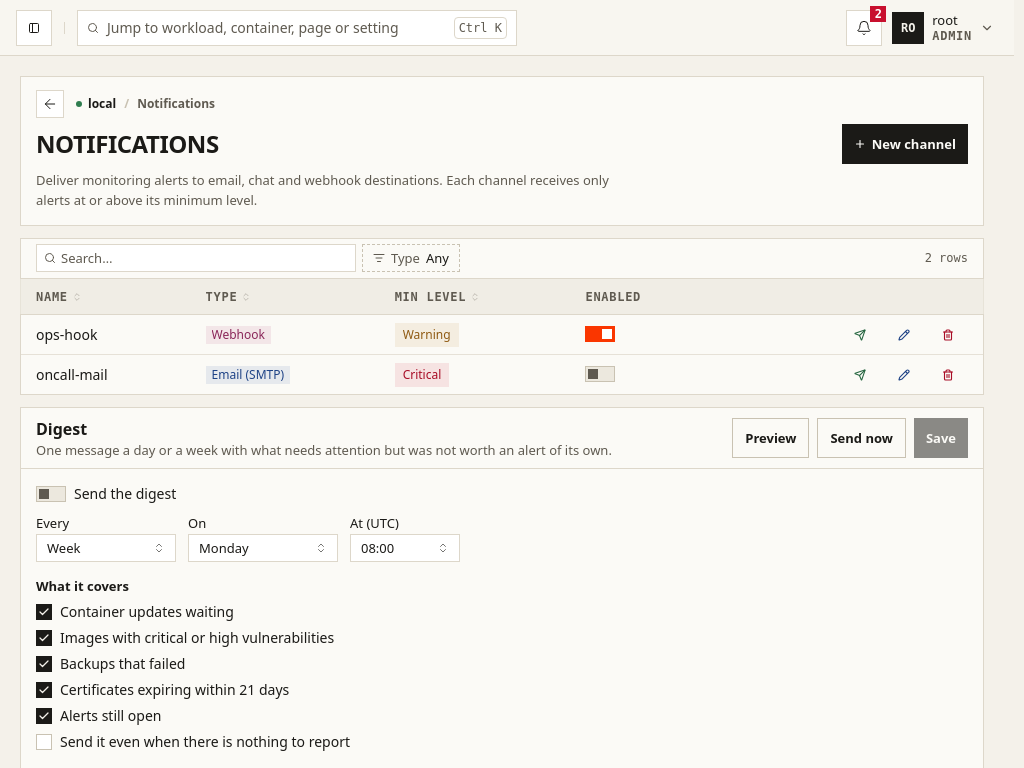
Test case: digest card › previews the text and sends now
Click the button "Preview".
click(771, 438)  # box [732,418,810,458]
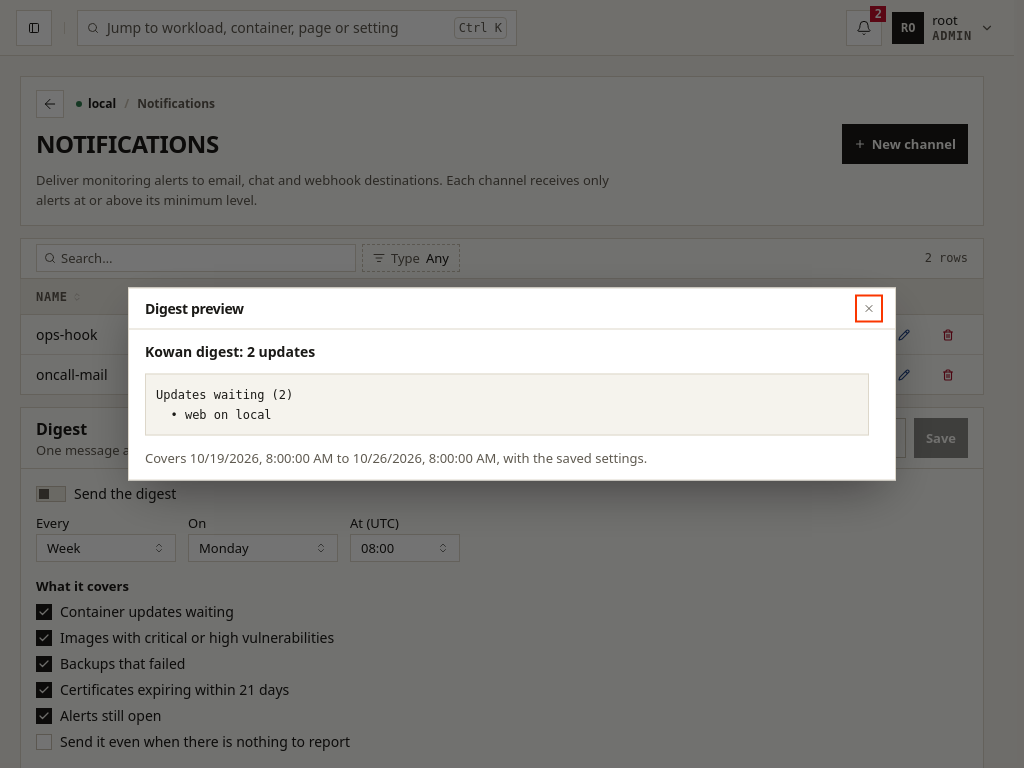
expect the text "Kowan digest: 2 updates" is shown: met, box [145,342,315,360]
expect the text "Updates waiting (2) • web on local" is shown: met, box [156,388,293,422]
Press Escape
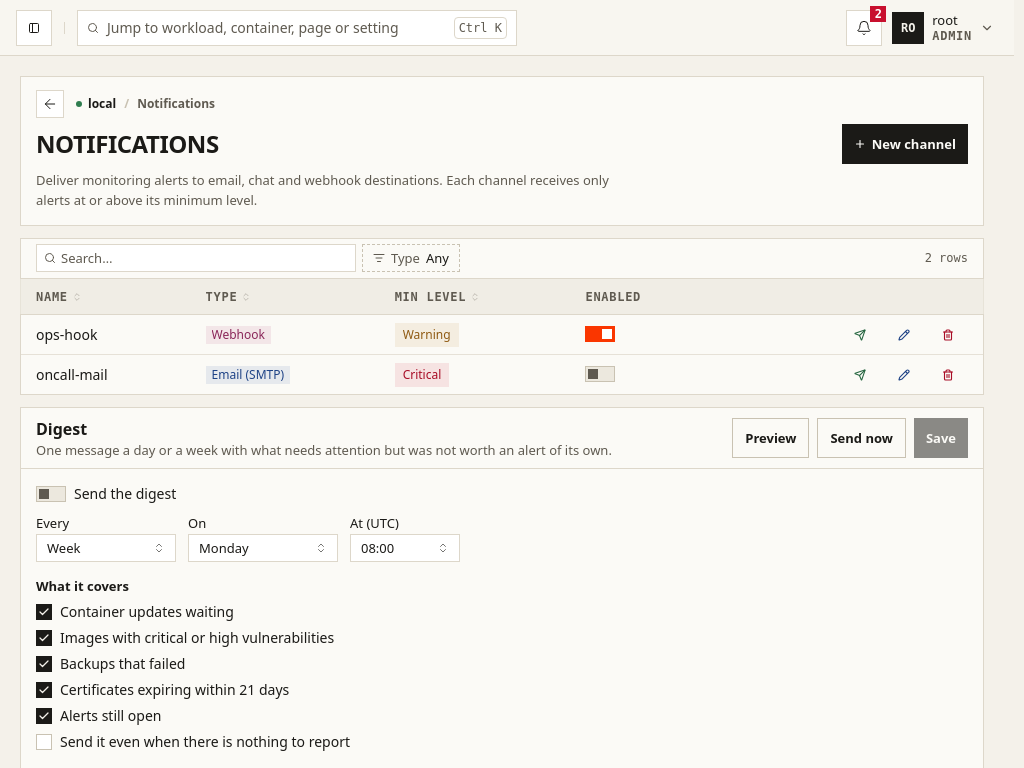
expect the dialog is gone: met
Click the button "Send now".
click(862, 438)  # box [817,418,906,458]
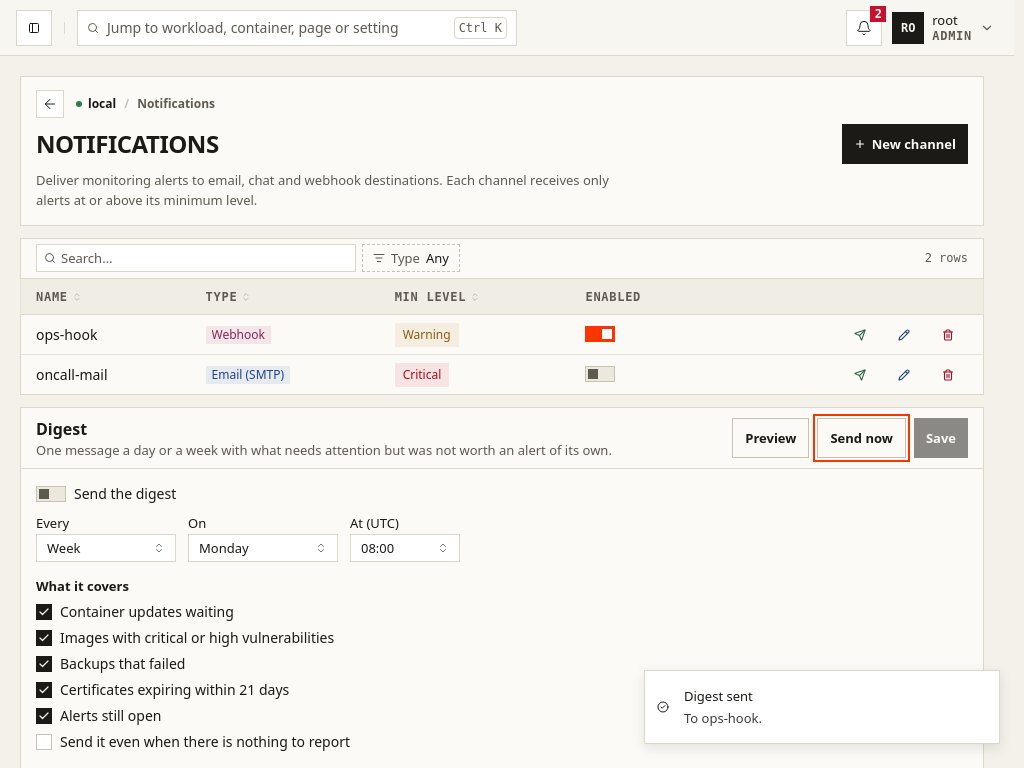
expect the text "To ops-hook." is shown: met, box [684,709,762,727]
Click the button "Send now".
click(862, 438)  # box [817,418,906,458]
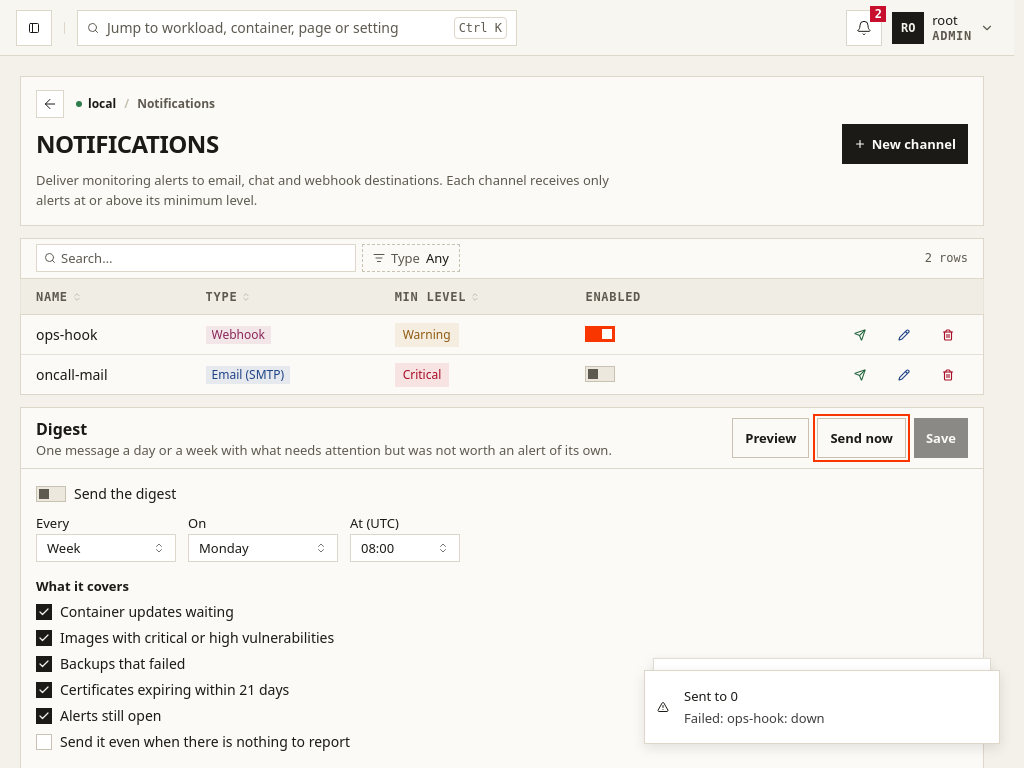
expect the text "Failed: ops-hook: down" is shown: met, box [684,709,825,727]
Click the button "Send now".
click(862, 438)  # box [817,418,906,458]
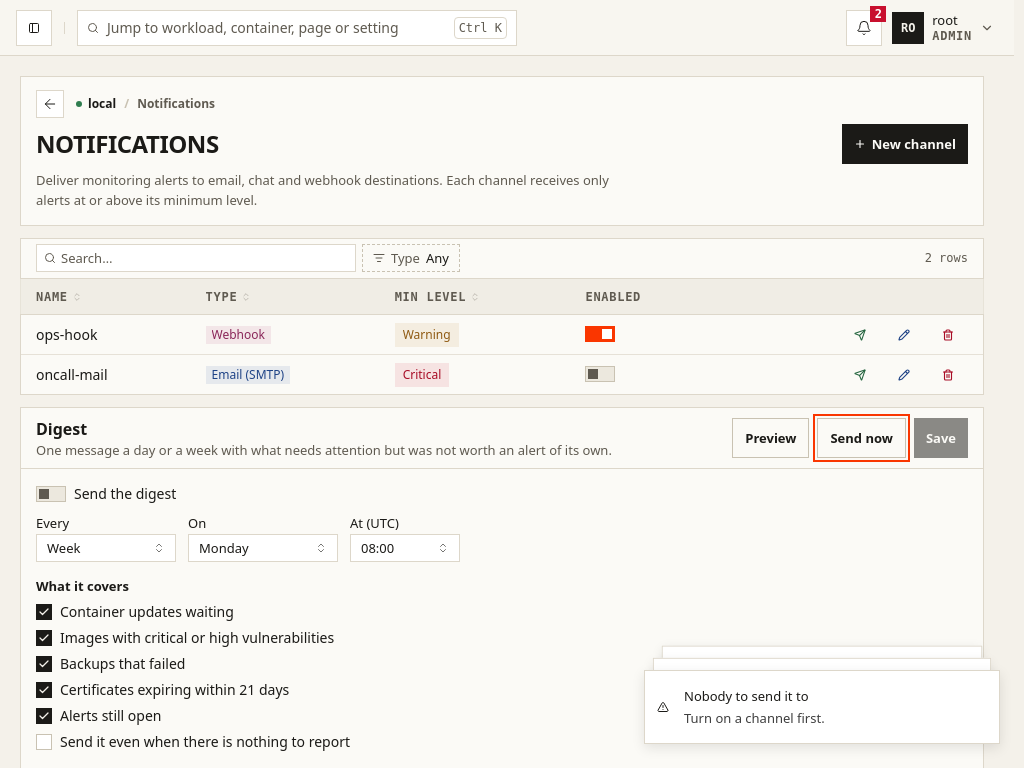
expect the text "Nobody to send it to" is shown: met, box [684,687,825,707]
Click the button "Send now".
click(862, 438)  # box [817,418,906,458]
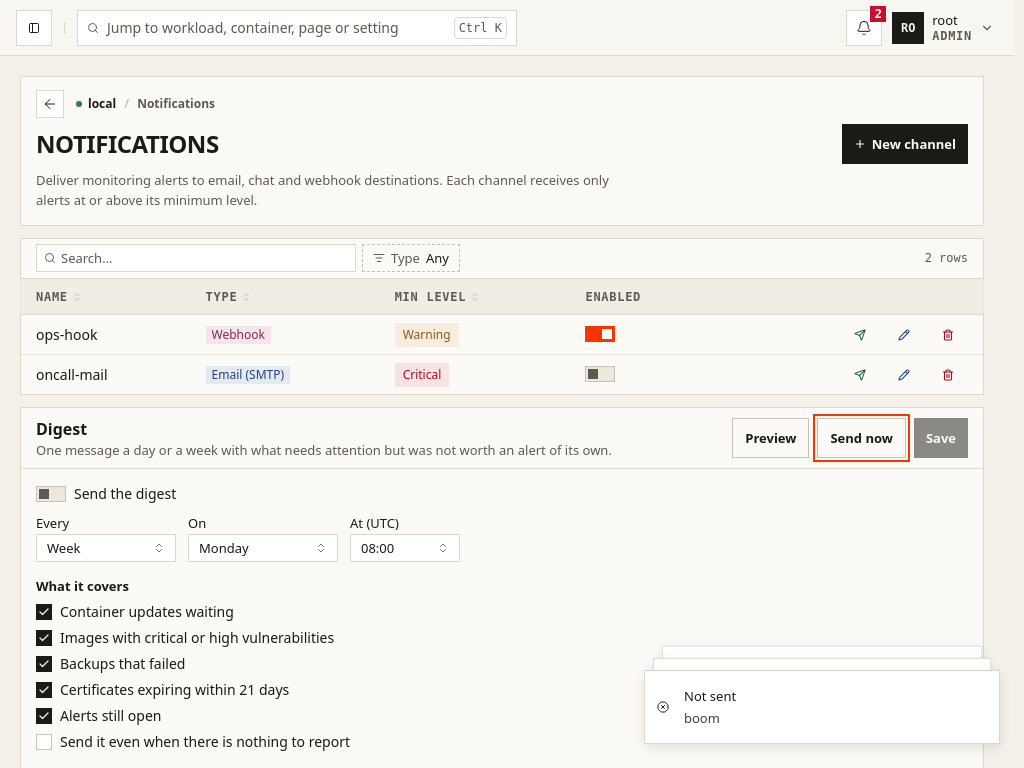
expect the text "boom" is shown: met, box [684,709,720,727]
